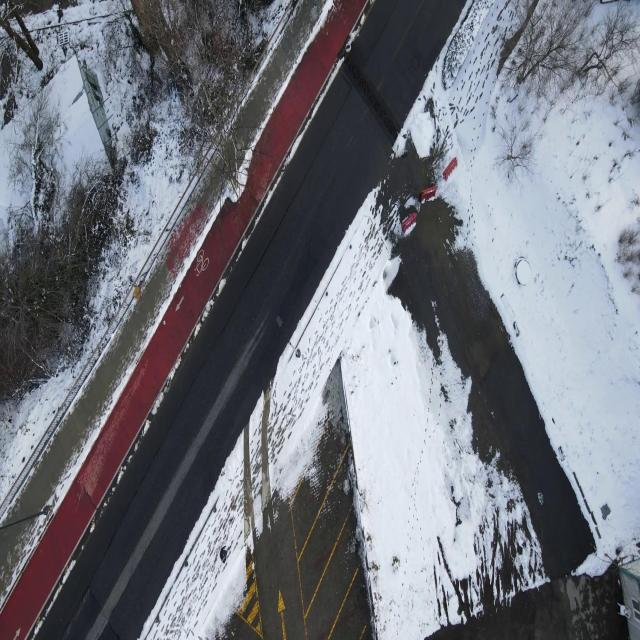p3rson: (219, 543, 232, 565)
